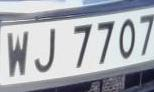0: (115, 14, 139, 59)
7: (69, 18, 95, 69), (93, 16, 118, 66), (137, 8, 154, 62)
J: (31, 24, 62, 78)
W: (3, 27, 33, 82)
